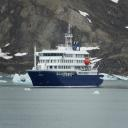cruises: (25, 24, 106, 90)
